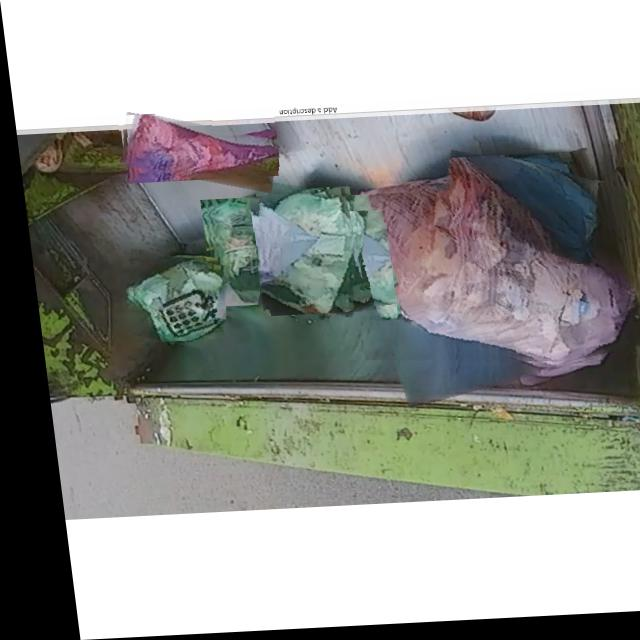general_trashbag: (253, 194, 348, 317), (201, 201, 278, 306), (123, 260, 216, 342)
other_trashbag: (341, 194, 624, 368), (460, 161, 590, 269), (119, 116, 274, 177), (307, 216, 382, 319)
